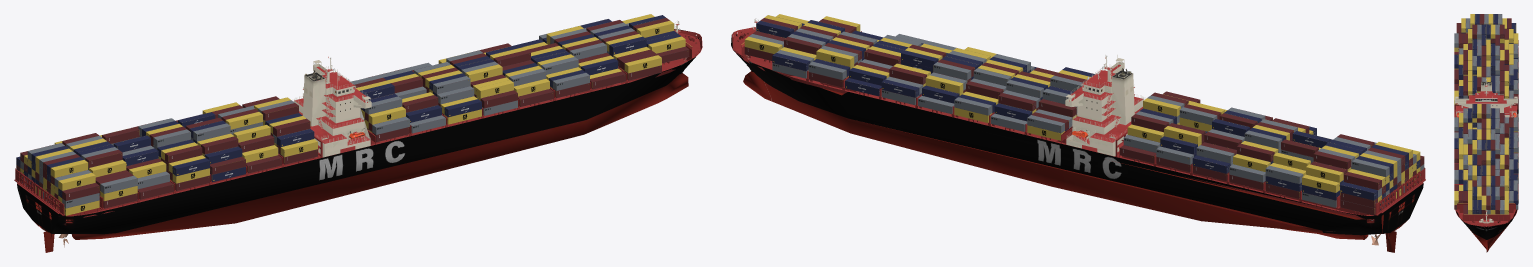
File: container-ship.glb
The picture shows the model from 3 angles, left to right: view 1: azimuth 30°, elevation 25°; view 2: azimuth 150°, elevation 25°; view 3: azimuth 270°, elevation 25°; orthographic projection. The views are drawn at different scales.
Parts seen in each view (by area): view 1: Containers, Ship; view 2: Containers, Ship; view 3: Containers, Ship.
Boxes of the visible parts, box(x1,y1,x2,y2) form: Containers: box(16, 14, 689, 215); Ship: box(14, 20, 702, 252); Containers: box(744, 14, 1424, 215); Ship: box(731, 18, 1425, 252); Containers: box(1454, 14, 1518, 214); Ship: box(1454, 40, 1518, 252).
Bounding box in the file's own units: 91.25 × 16.87 × 12.87.
3 materials, 3 textured.
